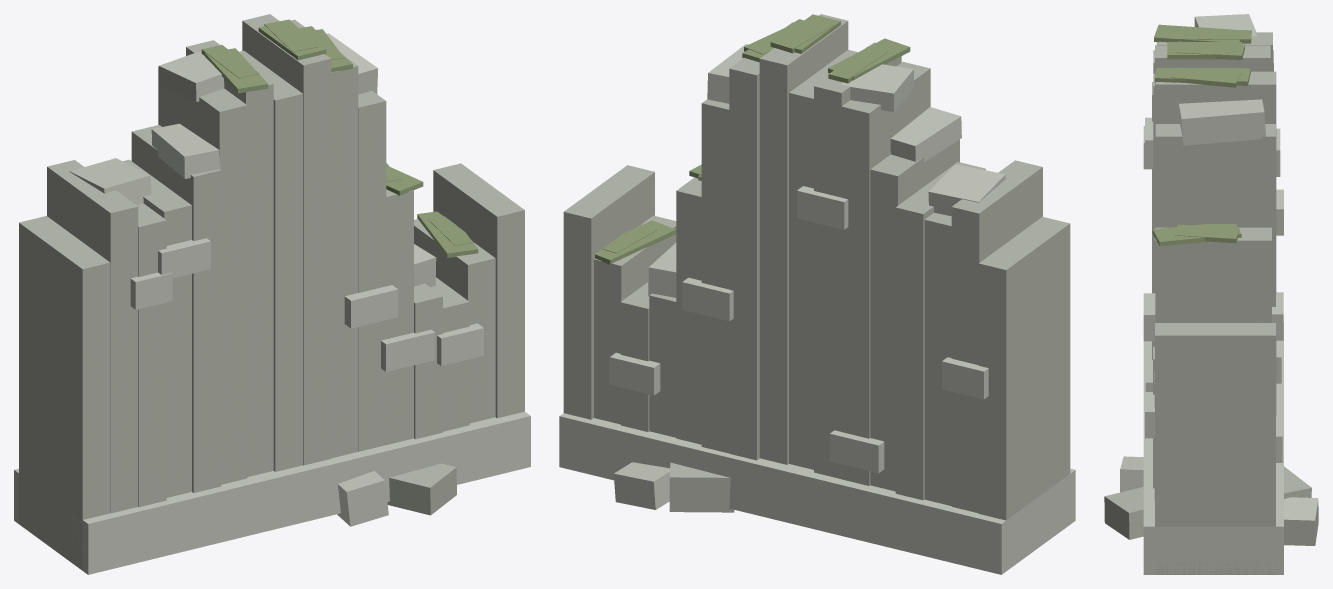
File: ruin_wall.glb
3 views of the same model, side by side, from view 1: azimuth 30°, elevation 25°; view 2: azimuth 150°, elevation 25°; view 3: azimuth 270°, elevation 25° (orthographic). The views are drawn at different scales.
Parts seen in each view (by area): view 1: ruin_wall; view 2: ruin_wall; view 3: ruin_wall.
Boxes of the visible parts, box(x1,y1,x2,y2) form: ruin_wall: box(14, 14, 530, 574); ruin_wall: box(559, 14, 1075, 574); ruin_wall: box(1104, 14, 1318, 574).
Bounding box in the file's own units: 4 × 3.98 × 1.77.
